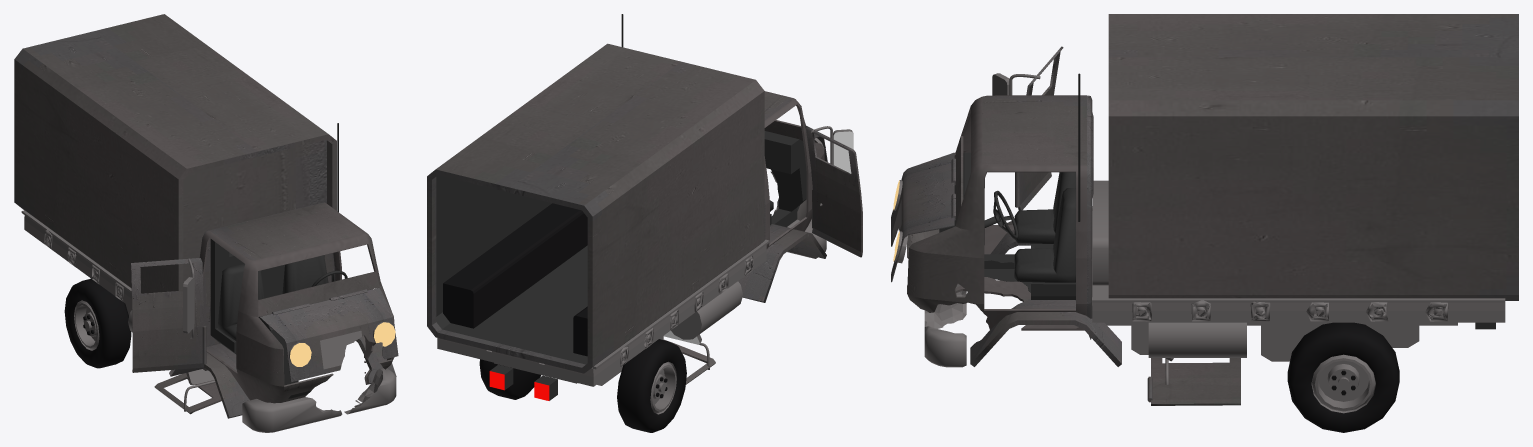
The model's file is Crashed_Truck.glb.
The picture shows the model from 3 angles, left to right: view 1: azimuth 30°, elevation 25°; view 2: azimuth 150°, elevation 25°; view 3: azimuth 270°, elevation 25°; orthographic projection. The views are drawn at different scales.
Visible parts, largest first — view 1: Truck Mat_plastic_utility, Truck Mat_Metal_Utility, Truck Truck 2, Truck Officer Truck, Door Mat_plastic_utility.001, Truck Headlight, Door Mat_Metal_Utility.001; view 2: Truck Mat_plastic_utility, Truck Truck 2, Truck Officer Truck, Truck Mat_Metal_Utility, Truck mirror, Truck brakes, Door Mat_plastic_utility.001; view 3: Truck Mat_plastic_utility, Truck Mat_Metal_Utility, Truck Truck 2, Truck Officer Truck, Door Mat_plastic_utility.001.
Part boxes in pixels (<box>): Truck Mat_plastic_utility: <box>14,14,398,418</box>; Truck Mat_Metal_Utility: <box>21,210,396,432</box>; Truck Truck 2: <box>210,239,372,398</box>; Truck Officer Truck: <box>64,278,131,368</box>; Door Mat_plastic_utility.001: <box>154,373,221,414</box>; Truck Headlight: <box>290,322,395,366</box>; Door Mat_Metal_Utility.001: <box>184,369,215,411</box>; Truck Mat_plastic_utility: <box>427,43,862,373</box>; Truck Truck 2: <box>436,131,806,400</box>; Truck Officer Truck: <box>443,203,686,432</box>; Truck Mat_Metal_Utility: <box>437,126,853,414</box>; Truck mirror: <box>833,131,853,173</box>; Truck brakes: <box>489,371,549,400</box>; Door Mat_plastic_utility.001: <box>664,339,715,384</box>; Truck Mat_plastic_utility: <box>891,14,1518,366</box>; Truck Mat_Metal_Utility: <box>892,73,1505,413</box>; Truck Truck 2: <box>939,152,1495,329</box>; Truck Officer Truck: <box>1287,322,1399,432</box>; Door Mat_plastic_utility.001: <box>1147,358,1240,405</box>.
Size of the model in its own units: 3.42 by 4 by 6.4.
11 materials, 2 textured.
